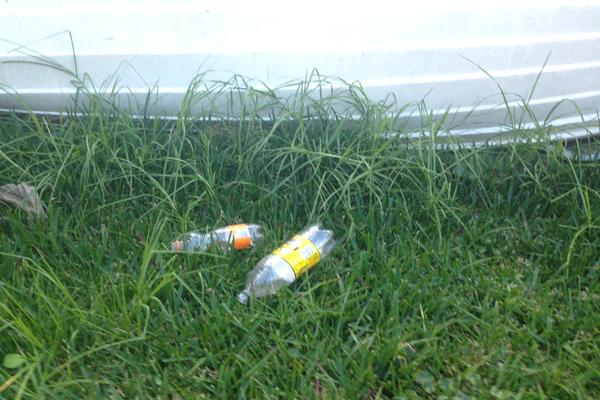Plastic Bottle: (238, 223, 334, 304), (171, 224, 263, 254)
